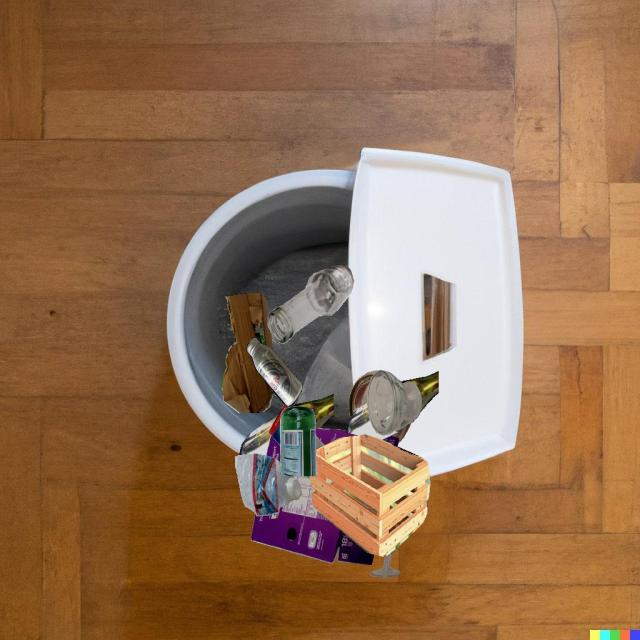cardboard: (251, 476, 374, 565), (222, 293, 278, 413), (270, 435, 340, 476), (289, 407, 325, 479)
combustible waste: (309, 435, 430, 556)
glass: (267, 265, 354, 343), (367, 370, 422, 435), (346, 402, 415, 440), (280, 406, 317, 476), (239, 415, 278, 456), (401, 371, 439, 413), (292, 394, 334, 429), (349, 370, 379, 418), (370, 554, 400, 578)
metal: (246, 337, 302, 407)
plastic: (235, 453, 301, 516), (358, 435, 358, 435)
